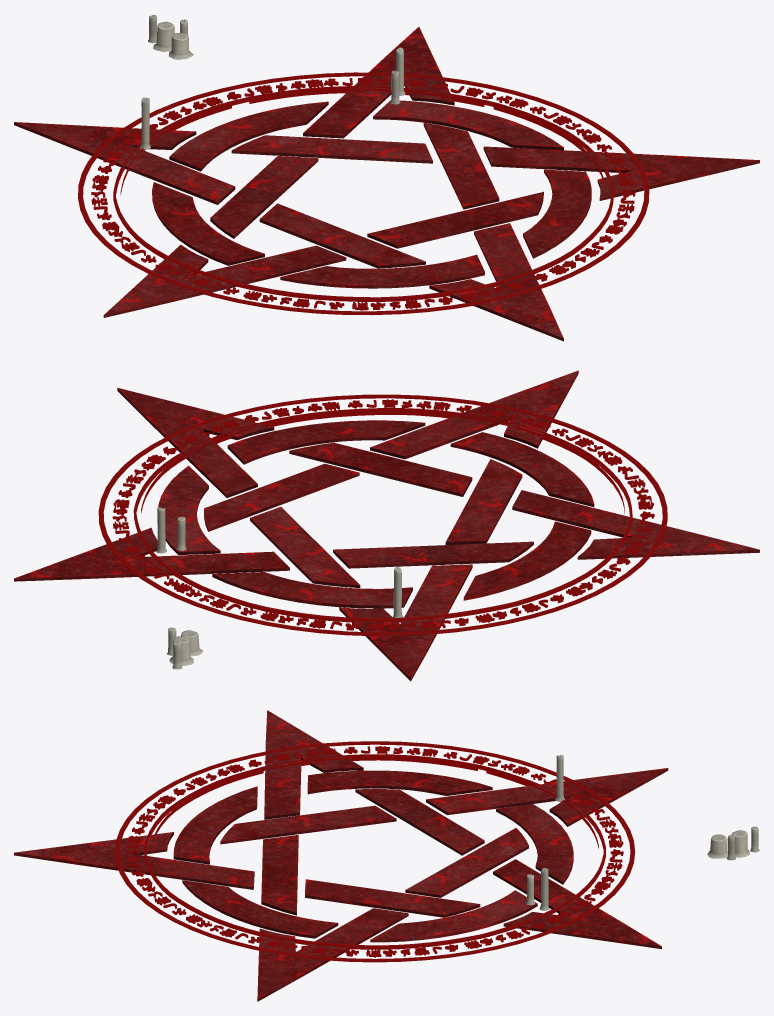
File: summoning_circle.glb
The picture shows the model from 3 angles, top to bottom: view 1: azimuth 30°, elevation 25°; view 2: azimuth 150°, elevation 25°; view 3: azimuth 270°, elevation 25°; orthographic projection. The views are drawn at different scales.
Parts seen in each view (by area): view 1: pent_4_pent_4_0.016, pent_3_pent_3_0.044; view 2: pent_4_pent_4_0.016, pent_3_pent_3_0.044; view 3: pent_4_pent_4_0.016, pent_3_pent_3_0.044.
Boxes of the visible parts, x1,y1,x2,y2 form: pent_4_pent_4_0.016: (14, 27, 759, 341); pent_3_pent_3_0.044: (78, 72, 649, 315); pent_4_pent_4_0.016: (14, 370, 759, 681); pent_3_pent_3_0.044: (98, 394, 667, 635); pent_4_pent_4_0.016: (14, 710, 668, 1001); pent_3_pent_3_0.044: (115, 741, 635, 962).
Bounding box in the file's own units: 2.94 × 0.2295 × 3.21.
Materials: 3 (2 with a texture image).
